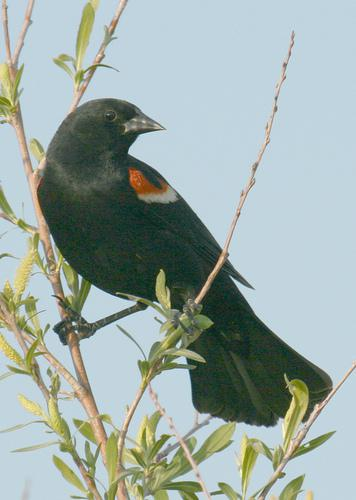010.Red_winged_Blackbird: (37, 97, 329, 432)
